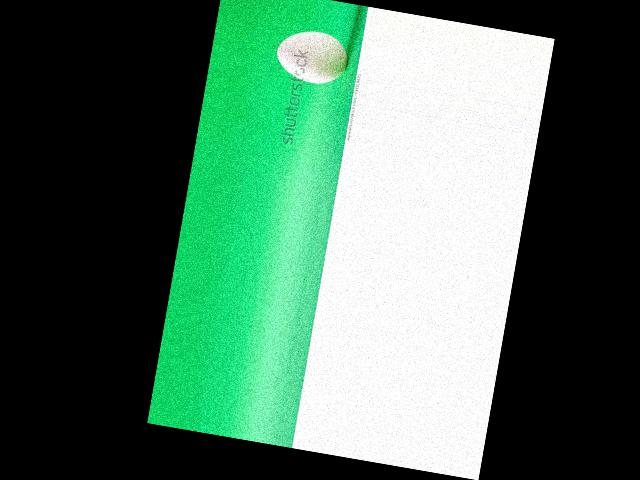egg: (273, 24, 352, 88)
